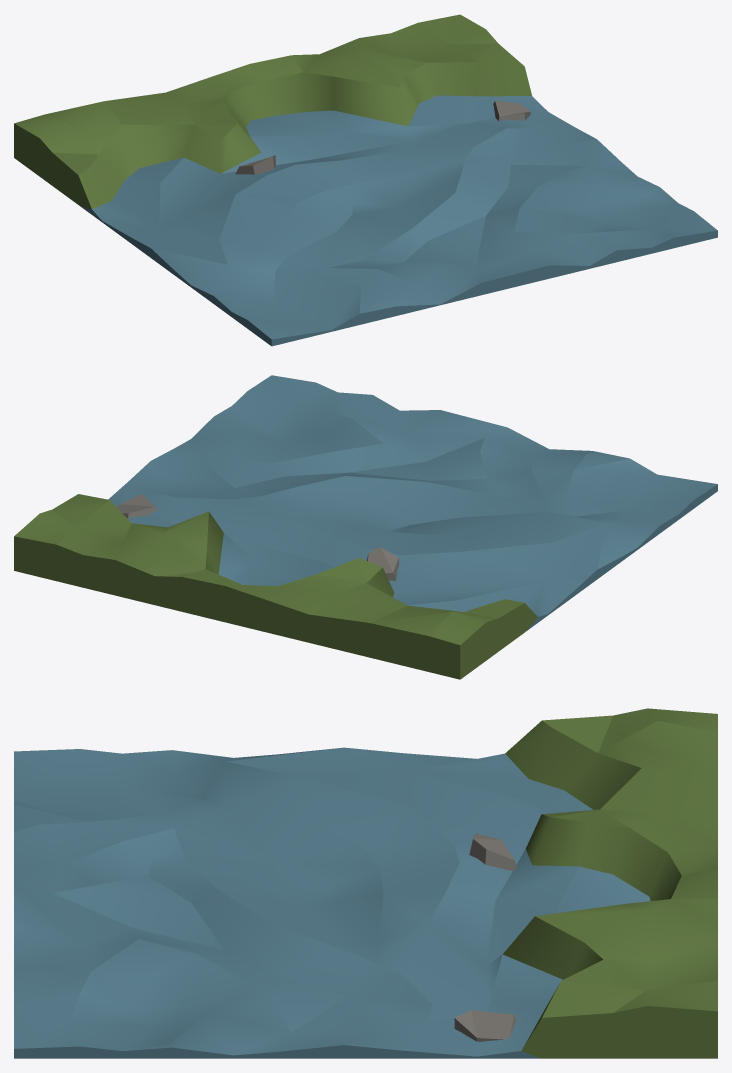
Rendered from Water_Edge_U.glb.
3 renders of one model, top to bottom at view 1: azimuth 30°, elevation 25°; view 2: azimuth 150°, elevation 25°; view 3: azimuth 270°, elevation 25°, orthographic. The views are drawn at different scales.
Parts seen in each view (by area): view 1: Water_Edge_U; view 2: Water_Edge_U; view 3: Water_Edge_U.
Part boxes in pixels (x1,y1,x2,y2): Water_Edge_U: (14,14,717,346); Water_Edge_U: (14,375,717,679); Water_Edge_U: (14,708,717,1058).
Bounding box in the file's own units: 1.47 × 0.1508 × 1.47.
